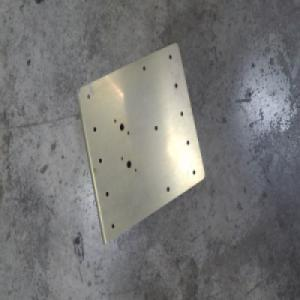MetalSheet: (74, 38, 206, 247)
